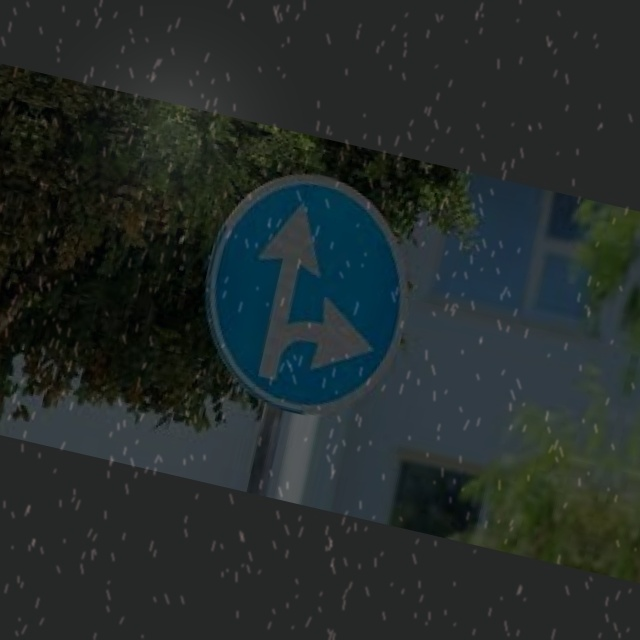Compulsory_Ahead_or_Turn_Right: (182, 156, 432, 437)
